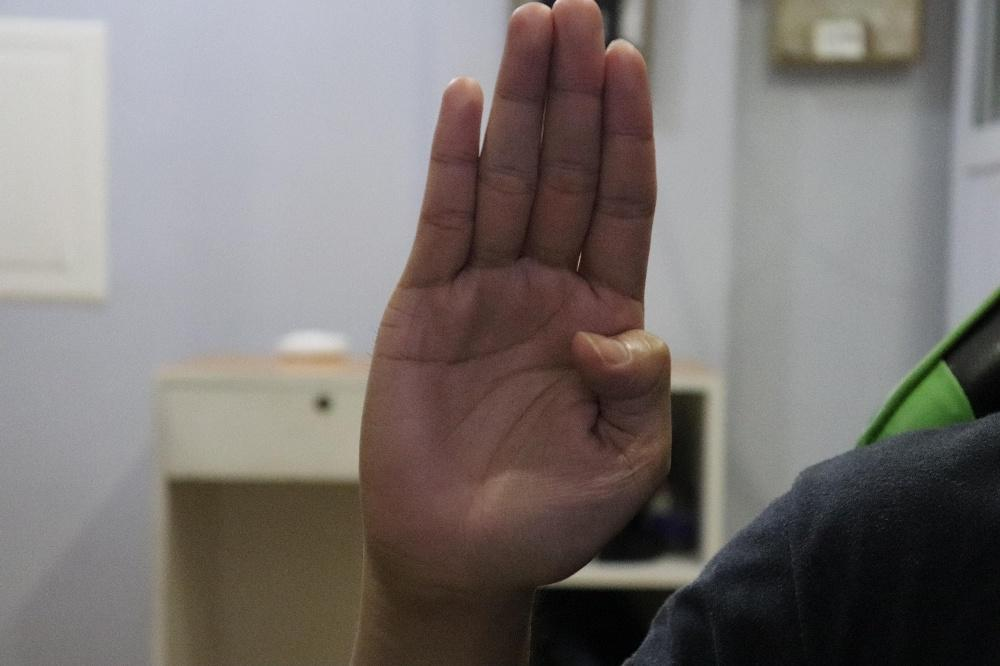b: (357, 0, 672, 592)
